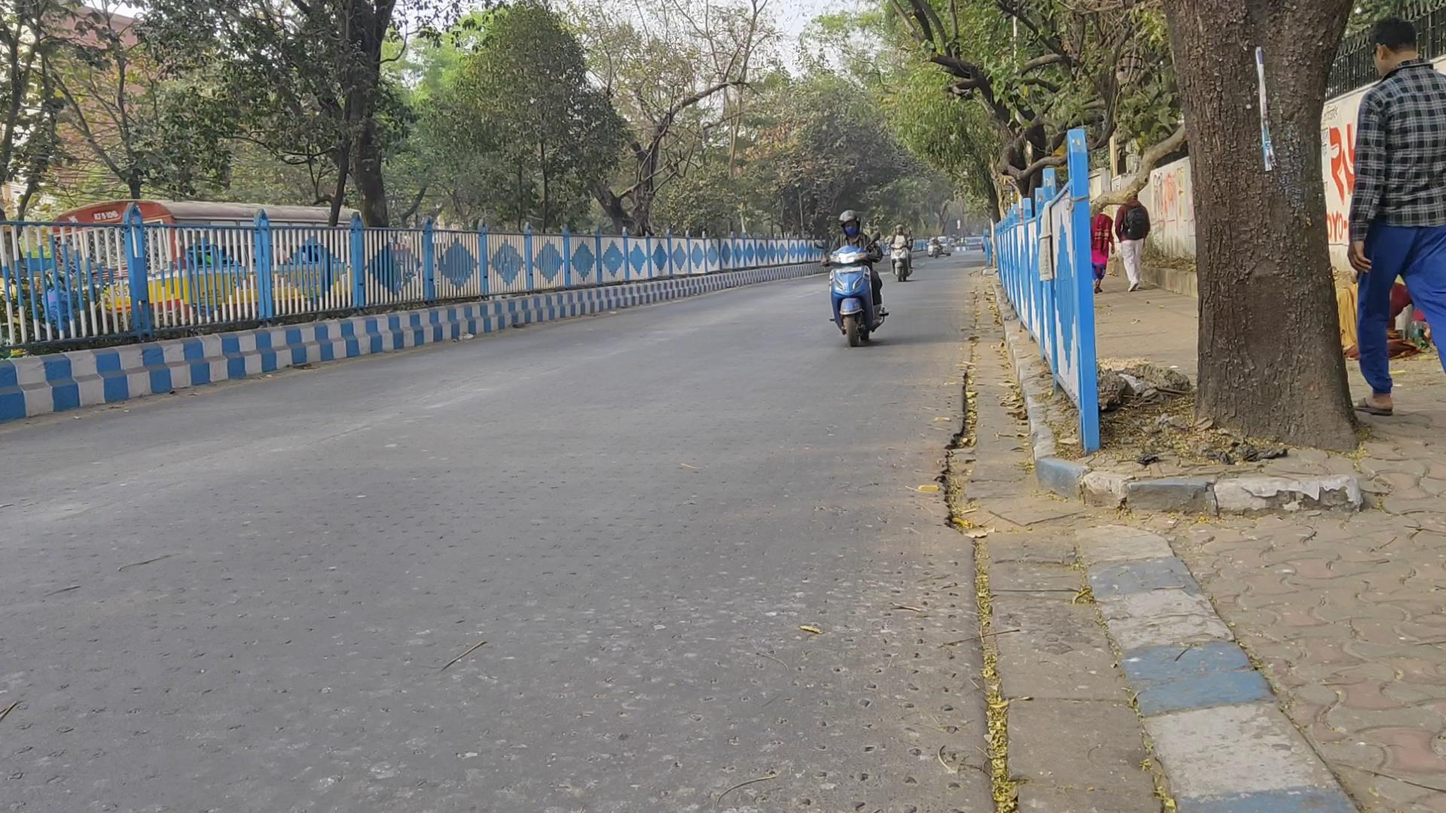bike: (814, 210, 889, 349), (885, 225, 914, 282), (931, 236, 943, 259)
car: (927, 236, 952, 257)
